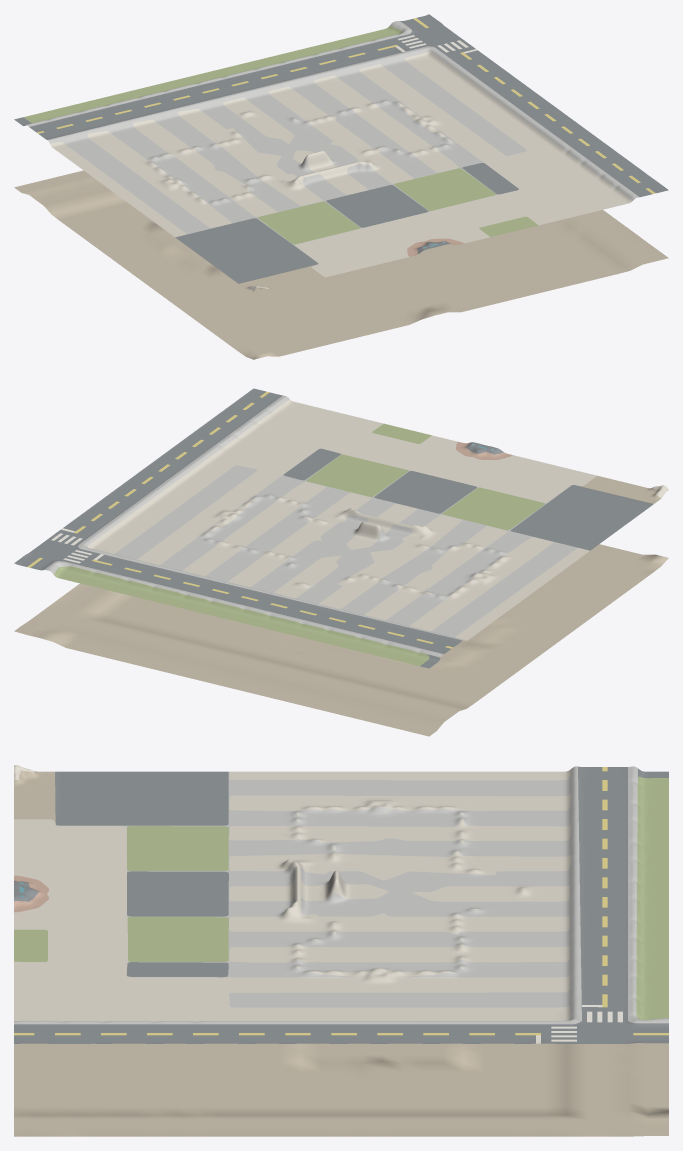
3 renders of one model, top to bottom at view 1: azimuth 30°, elevation 25°; view 2: azimuth 150°, elevation 25°; view 3: azimuth 270°, elevation 25°, orthographic. The views are drawn at different scales.
Visible parts, largest first — view 1: s_-8_-1__soil, s_-8_-1__paving, s_-8_-1__stone_paving, s_-8_-1__asphalt, s_-8_-1__grass, s_-8_-1__yellow_marking; view 2: s_-8_-1__soil, s_-8_-1__paving, s_-8_-1__stone_paving, s_-8_-1__asphalt, s_-8_-1__grass, s_-8_-1__yellow_marking; view 3: s_-8_-1__paving, s_-8_-1__soil, s_-8_-1__stone_paving, s_-8_-1__asphalt, s_-8_-1__grass, s_-8_-1__yellow_marking, s_-8_-1__brick_paving, s_-8_-1__white_marking.
Part boxes in pixels (x1,y1,x2,y2): s_-8_-1__soil: [14, 170, 668, 359]; s_-8_-1__paving: [50, 51, 632, 291]; s_-8_-1__stone_paving: [26, 21, 639, 262]; s_-8_-1__asphalt: [14, 14, 668, 283]; s_-8_-1__grass: [24, 26, 538, 244]; s_-8_-1__yellow_marking: [37, 18, 655, 193]; s_-8_-1__soil: [14, 476, 668, 736]; s_-8_-1__paving: [87, 399, 668, 640]; s_-8_-1__stone_paving: [44, 395, 589, 657]; s_-8_-1__asphalt: [14, 388, 653, 668]; s_-8_-1__grass: [54, 423, 544, 666]; s_-8_-1__yellow_marking: [27, 391, 453, 648]; s_-8_-1__paving: [14, 765, 571, 1021]; s_-8_-1__soil: [14, 770, 668, 1136]; s_-8_-1__stone_paving: [14, 766, 668, 1024]; s_-8_-1__asphalt: [14, 766, 668, 1043]; s_-8_-1__grass: [14, 776, 668, 1019]; s_-8_-1__yellow_marking: [14, 767, 668, 1035]; s_-8_-1__brick_paving: [14, 875, 48, 912]; s_-8_-1__white_marking: [536, 1005, 622, 1043].
Bounding box in the file's own units: 128 × 23.55 × 128.
